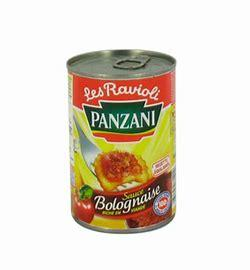metal: (67, 50, 176, 232)
